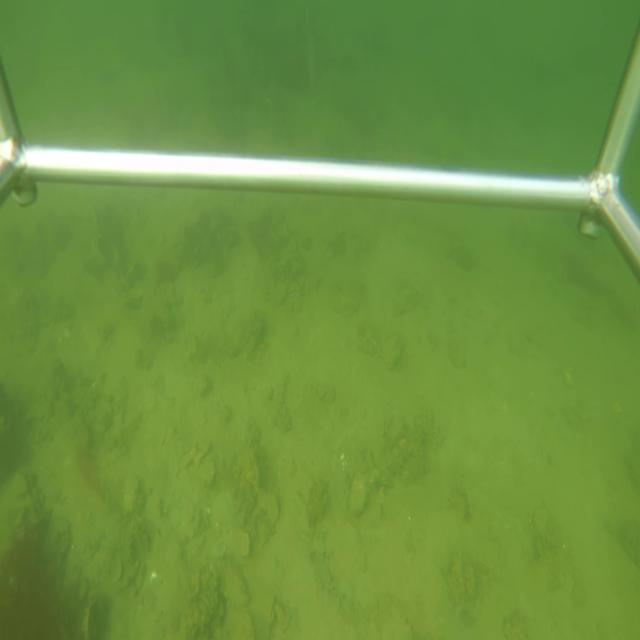Oyster-Closed: (346, 469, 368, 518)
Oyster-Indeterminate: (380, 334, 404, 371)
